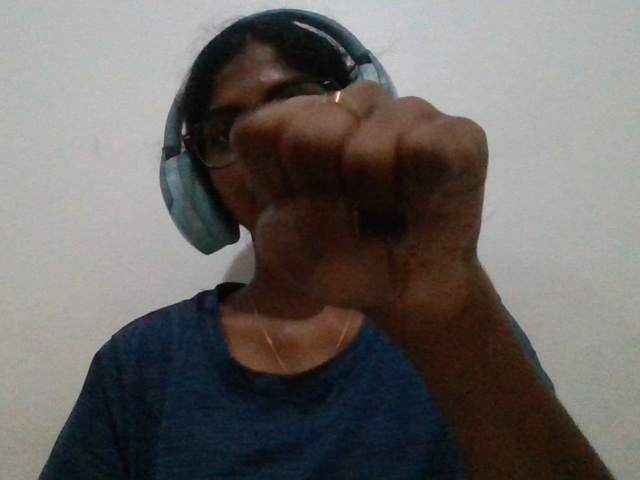Yes: (216, 71, 600, 402)
